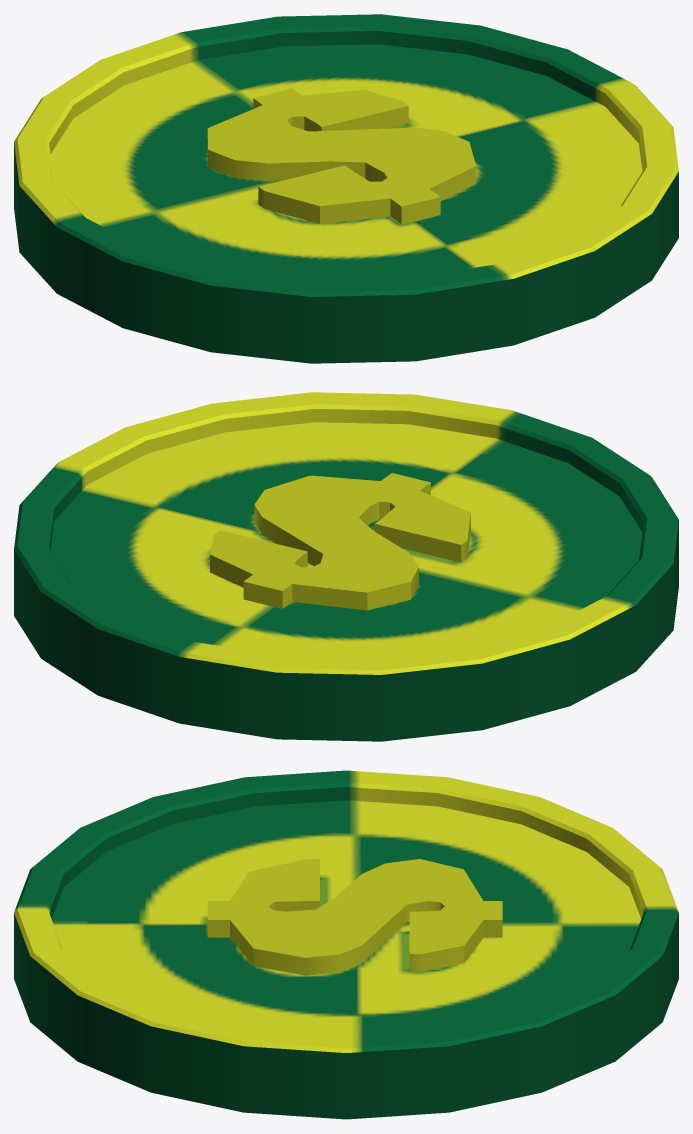
File: Coin_Model.fbx
3 renders of one model, top to bottom at view 1: azimuth 30°, elevation 25°; view 2: azimuth 150°, elevation 25°; view 3: azimuth 270°, elevation 25°, orthographic.
Visible parts, largest first — view 1: typeMesh2; view 2: typeMesh2; view 3: typeMesh2.
Boxes of the visible parts, bbox=[...] form: typeMesh2: bbox=[14, 14, 678, 363]; typeMesh2: bbox=[14, 392, 678, 741]; typeMesh2: bbox=[14, 770, 678, 1119].
Bounding box in the file's own units: 8.77 × 1.03 × 8.77.
